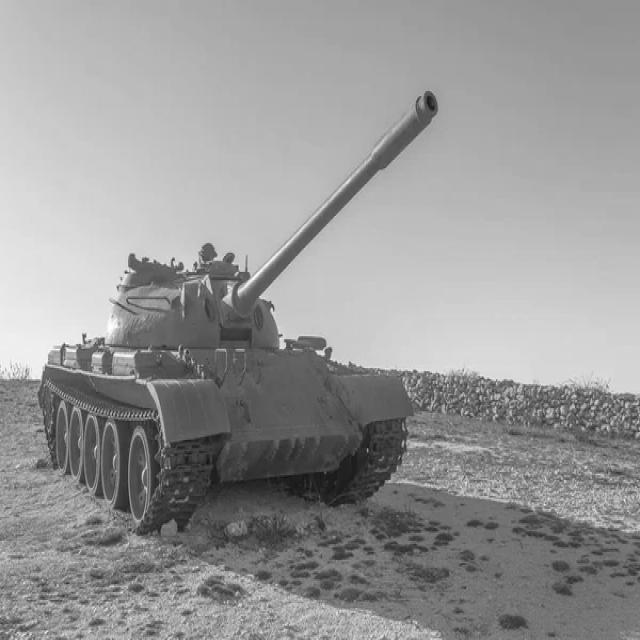Tank: (33, 70, 451, 536)
